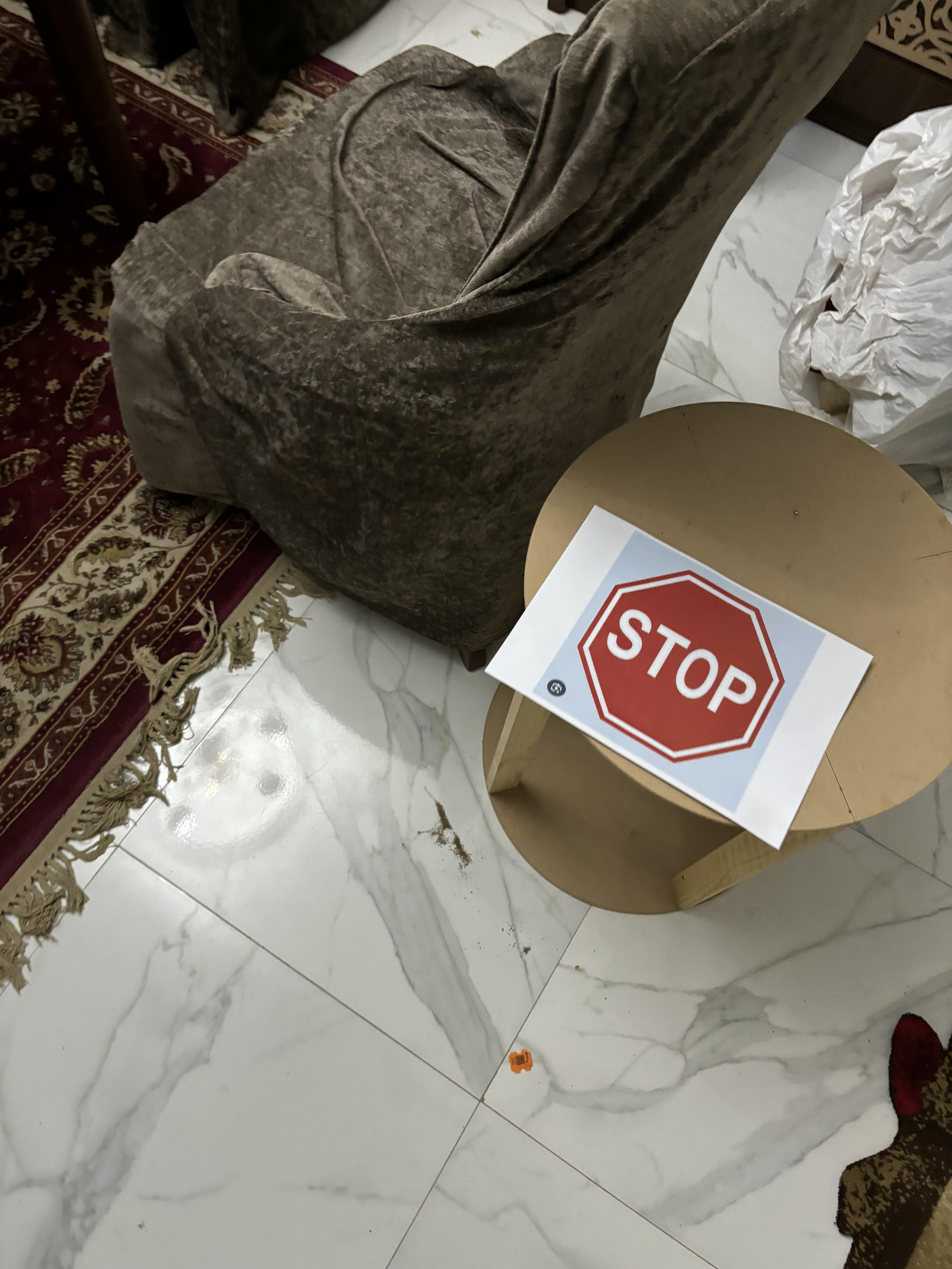Stop: (575, 569, 792, 765)
